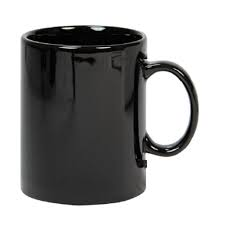cup: (16, 21, 203, 209)
